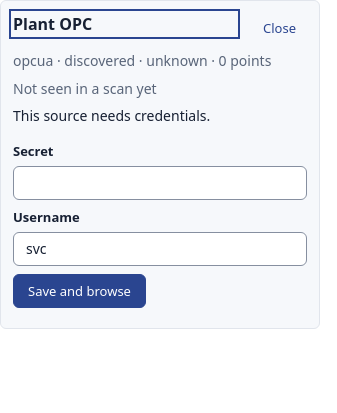
SourcePanel › a panel opened before the source was moved shows the server's 409 sentence in its error line and browses nothing (w33)
Type "pw" into the password field labelled "Secret" at (160, 183), box top-left (13, 166), bottom-right (307, 200)
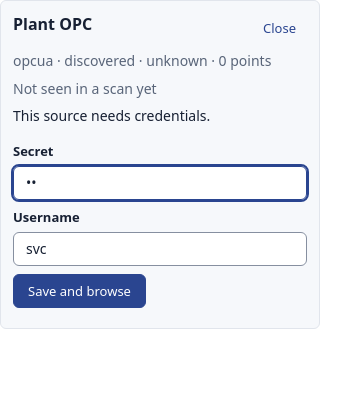
Click the button "Save and browse" at (79, 291), box top-left (13, 274), bottom-right (146, 308)
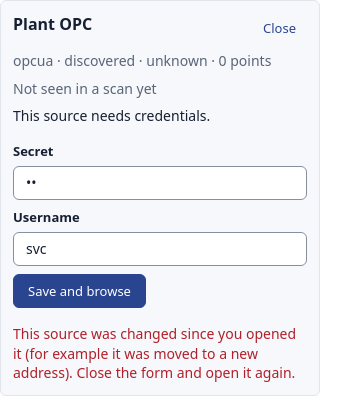
Check: the message shows "This source was changed since you opened it (for example it was moved to a new address). Close the form and open it again.", box top-left (13, 324), bottom-right (296, 382)
